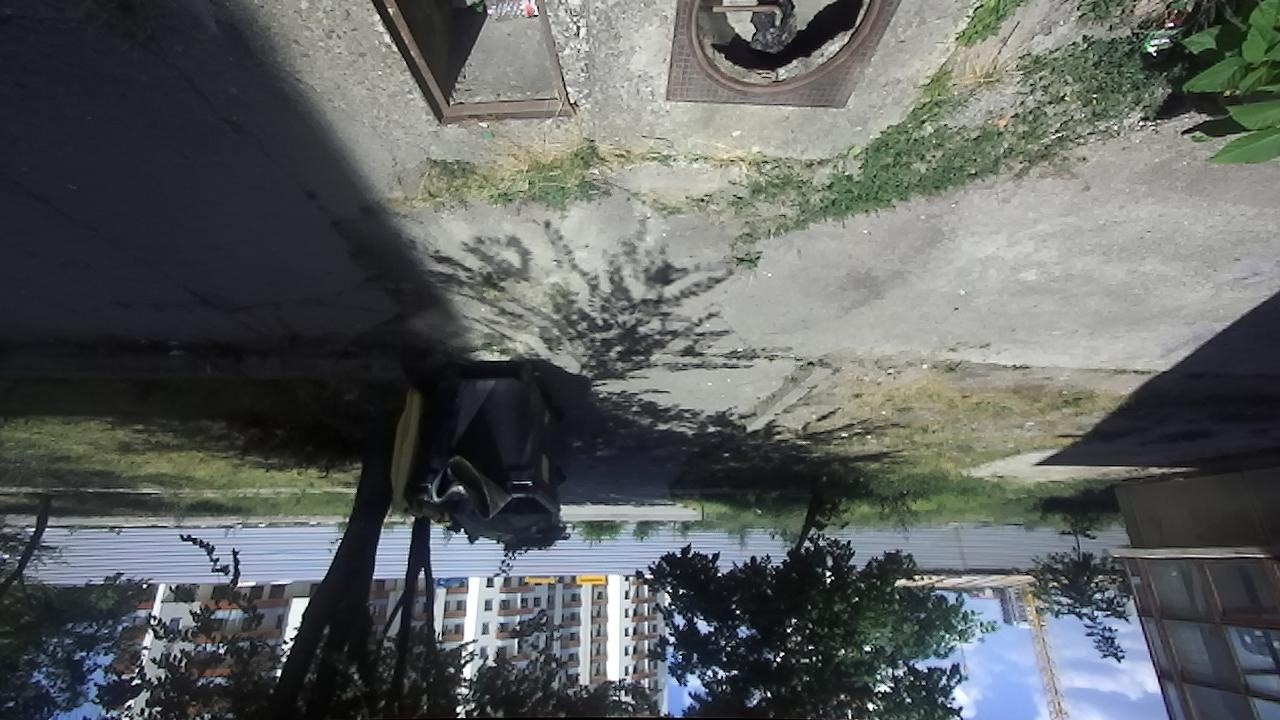drain: (369, 0, 577, 130), (689, 0, 889, 97)
